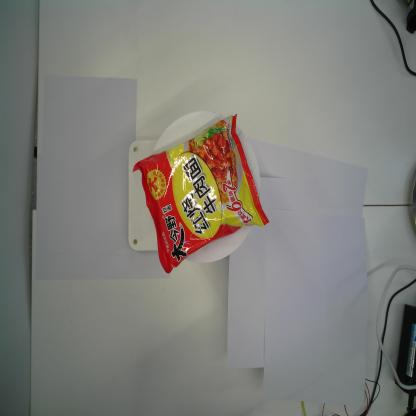Instant Noodles: (132, 113, 270, 274)
